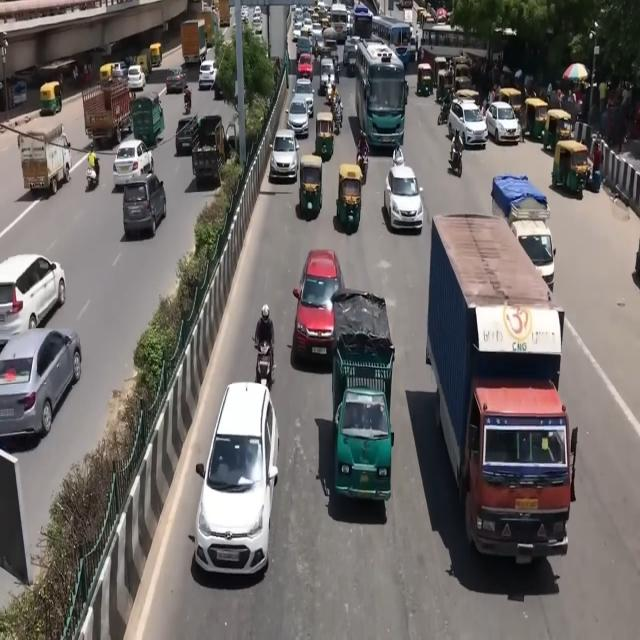auto: (192, 114, 225, 189), (552, 138, 589, 196), (336, 163, 363, 232), (298, 154, 323, 218), (543, 107, 573, 152), (523, 98, 549, 143), (315, 111, 334, 161), (498, 87, 523, 123), (40, 82, 62, 116), (436, 66, 454, 102), (417, 61, 433, 97), (136, 48, 152, 76), (99, 63, 117, 84), (150, 42, 162, 68)
bike-auto: (253, 333, 276, 391), (356, 132, 370, 182), (87, 146, 99, 188), (331, 93, 343, 133), (452, 128, 463, 166), (438, 103, 450, 126), (184, 86, 192, 114)
